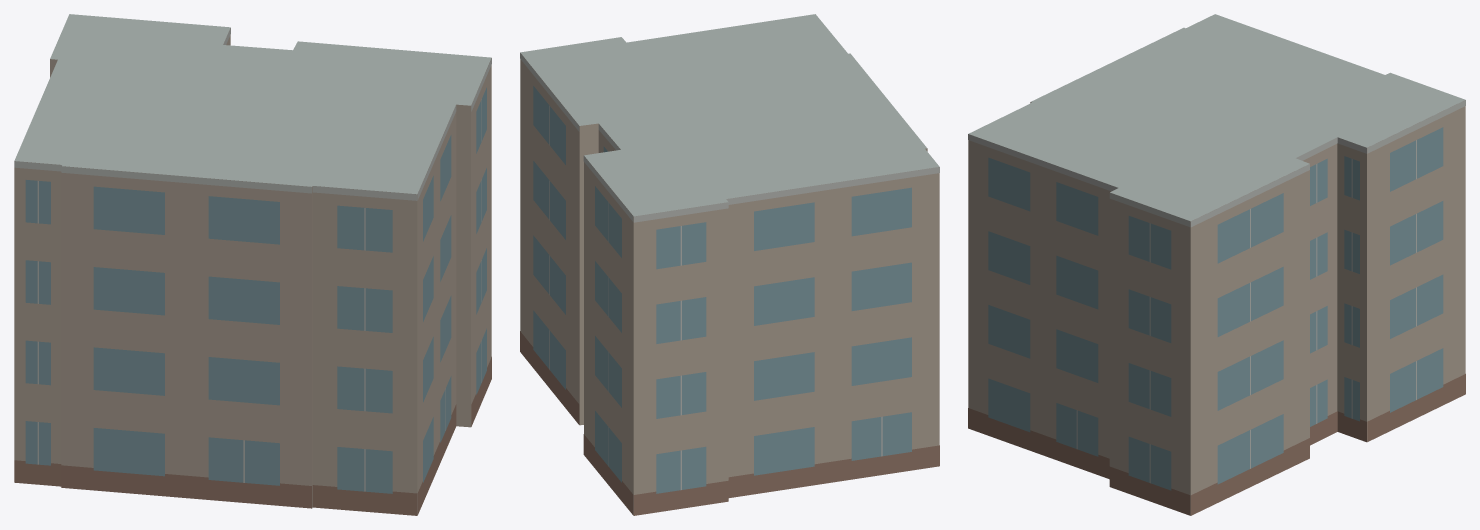
Rendered from survey-upis-32666971.glb.
3 renders of one model, left to right at view 1: azimuth 30°, elevation 25°; view 2: azimuth 150°, elevation 25°; view 3: azimuth 270°, elevation 25°, orthographic. The views are drawn at different scales.
Visible parts, largest first — view 1: survey-upis-32666971.tmp; view 2: survey-upis-32666971.tmp; view 3: survey-upis-32666971.tmp.
Part boxes in pixels (x1,y1,x2,y2): survey-upis-32666971.tmp: [14, 14, 491, 515]; survey-upis-32666971.tmp: [520, 14, 939, 515]; survey-upis-32666971.tmp: [968, 14, 1465, 515].
Bounding box in the file's own units: 17.75 × 11.75 × 18.
